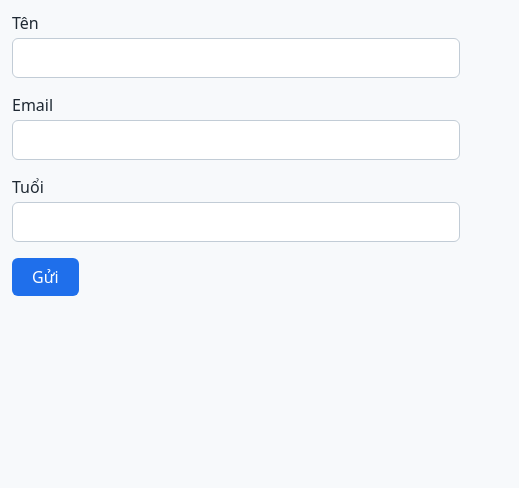
Test: SimpleForm – ShowData on submit › hides the inspector again when a later submit is invalid
This screenshot has width=519, height=488.
Type "Ada" into the field labelled "Tên". click: [236, 58]
box: left=12, top=38, right=460, bottom=78
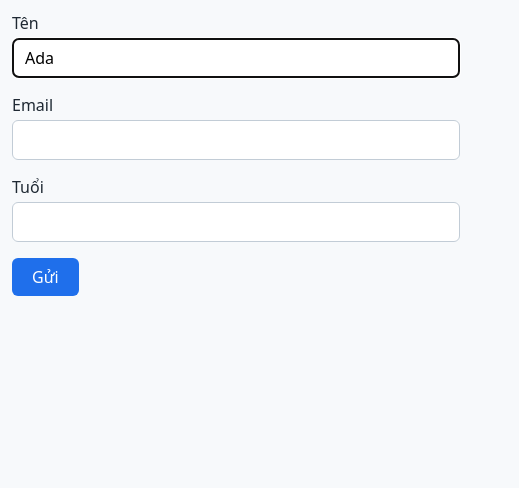
Type "ada@example.com" into the field labelled "Email". click: [236, 140]
box: left=12, top=120, right=460, bottom=160
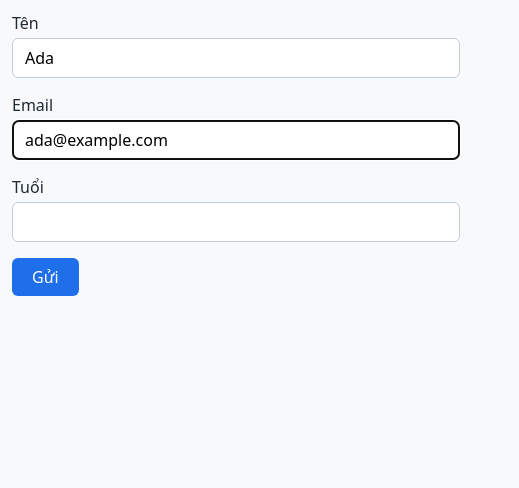
Type "36" into the number field labelled "Tuổi". click: [236, 222]
box: left=12, top=202, right=460, bottom=242
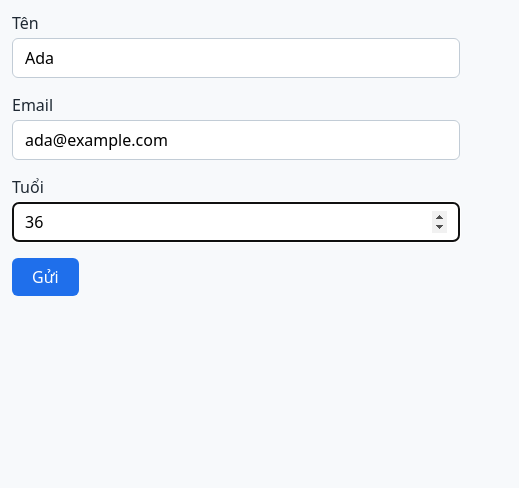
Click the button "Gửi". click: [45, 277]
box: left=12, top=258, right=79, bottom=296
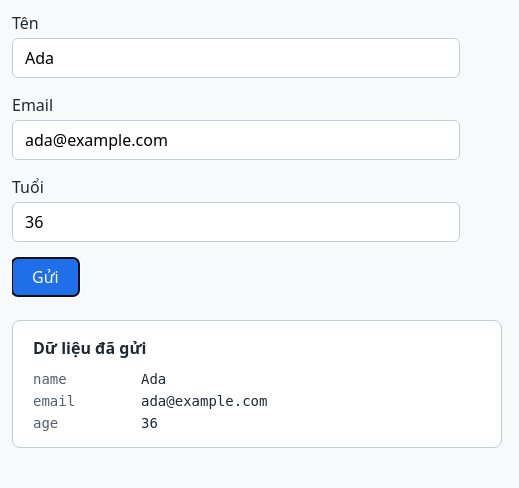
Result: the element with class "json-inspector" is shown at left=33, top=371, right=267, bottom=431
Clear the field labelled "Email". click: [236, 140]
box: left=12, top=120, right=460, bottom=160
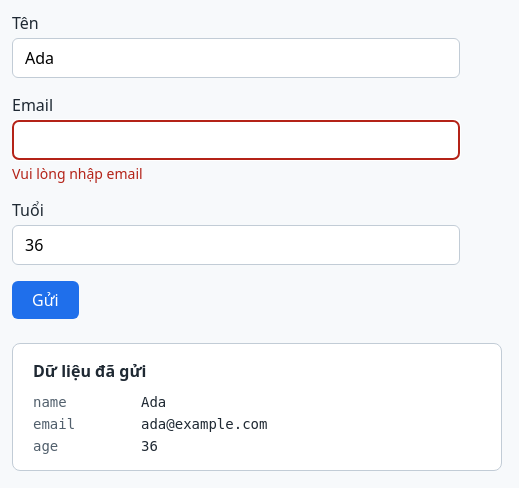
Click the button "Gửi". click: [45, 300]
box: left=12, top=281, right=79, bottom=319
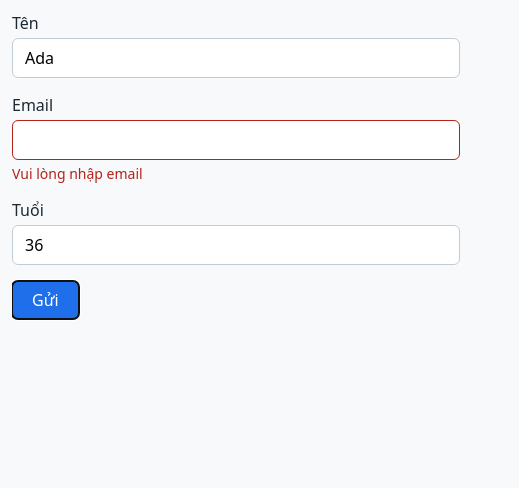
Result: the element with class "json-inspector" is gone
